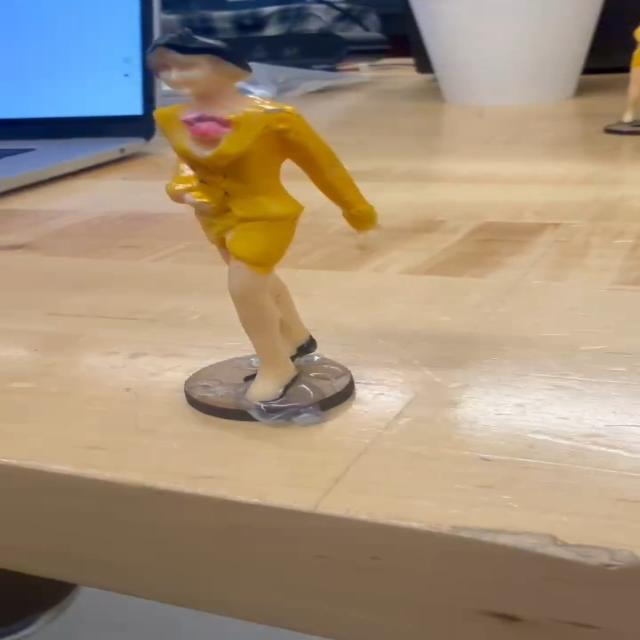Authorized: (130, 29, 392, 416)
